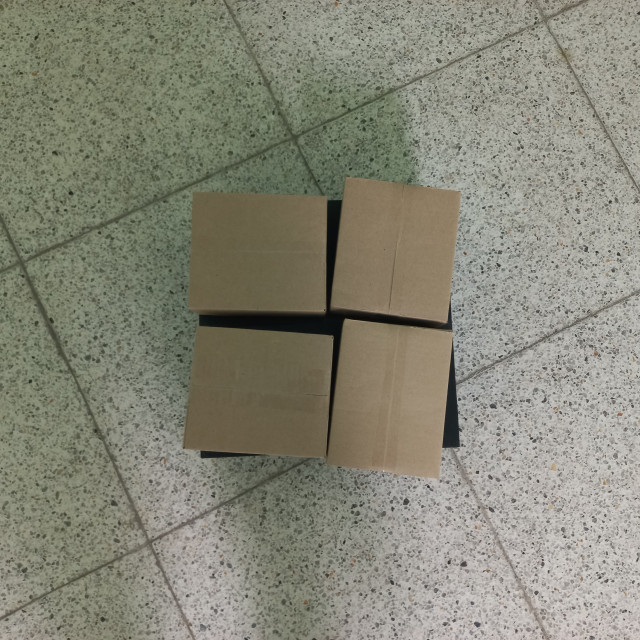box: (325, 317, 455, 481), (182, 325, 335, 459), (331, 176, 462, 325), (191, 192, 328, 315)
